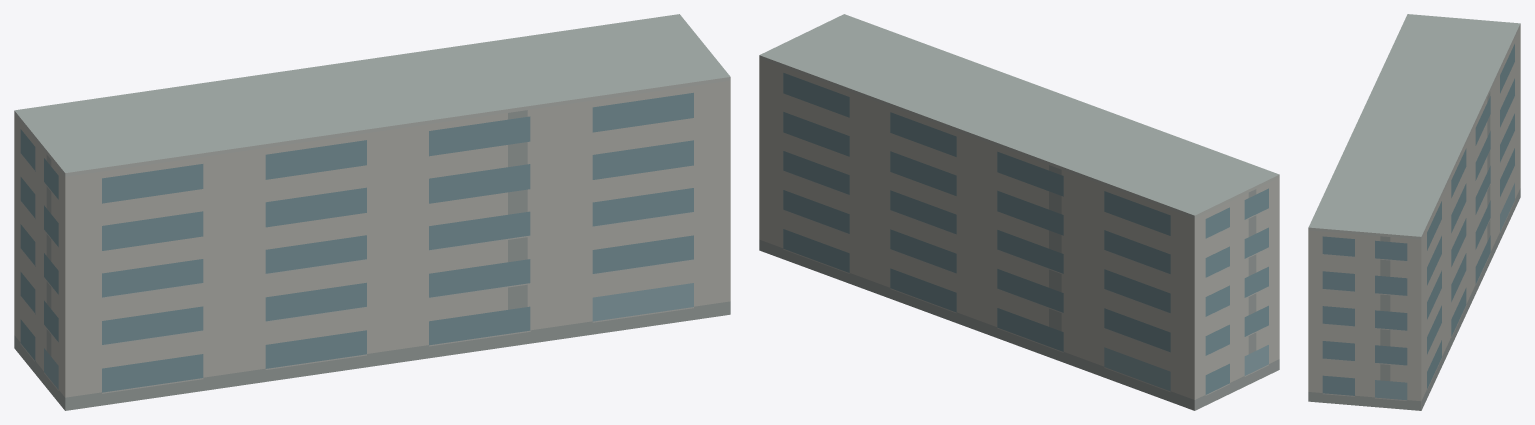
The model's file is residential-7fe8d0aa-8621-468c-ae4b-ee984ab3aa97.glb.
3 renders of one model, left to right at view 1: azimuth 30°, elevation 25°; view 2: azimuth 150°, elevation 25°; view 3: azimuth 270°, elevation 25°, orthographic. The views are drawn at different scales.
Visible parts, largest first — view 1: residential-7fe8d0aa-8621-468c-ae4b-ee984ab3aa97.tmp; view 2: residential-7fe8d0aa-8621-468c-ae4b-ee984ab3aa97.tmp; view 3: residential-7fe8d0aa-8621-468c-ae4b-ee984ab3aa97.tmp.
Boxes of the visible parts, x1,y1,x2,y2 form: residential-7fe8d0aa-8621-468c-ae4b-ee984ab3aa97.tmp: (14, 14, 730, 410); residential-7fe8d0aa-8621-468c-ae4b-ee984ab3aa97.tmp: (759, 14, 1279, 410); residential-7fe8d0aa-8621-468c-ae4b-ee984ab3aa97.tmp: (1308, 14, 1520, 410).
Bounding box in the file's own units: 41.9 × 15.25 × 16.85.
